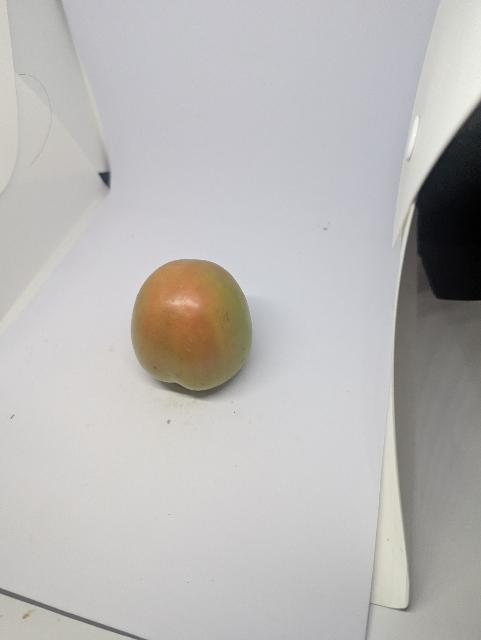breaker: (126, 258, 257, 395)
